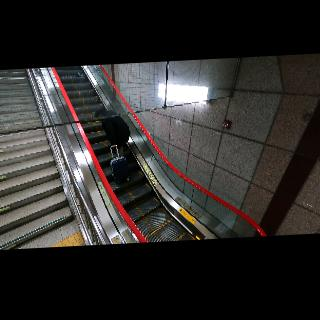normal: (92, 104, 134, 169)
